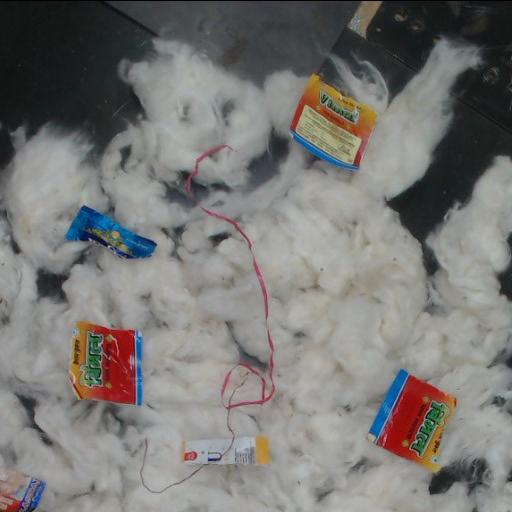cotton: (0, 38, 511, 512)
packet: (368, 370, 456, 471), (291, 71, 376, 168), (70, 323, 142, 404), (68, 205, 156, 257), (182, 436, 269, 464), (186, 145, 230, 191), (0, 477, 44, 512)
thread: (201, 207, 275, 411), (191, 146, 229, 175)
